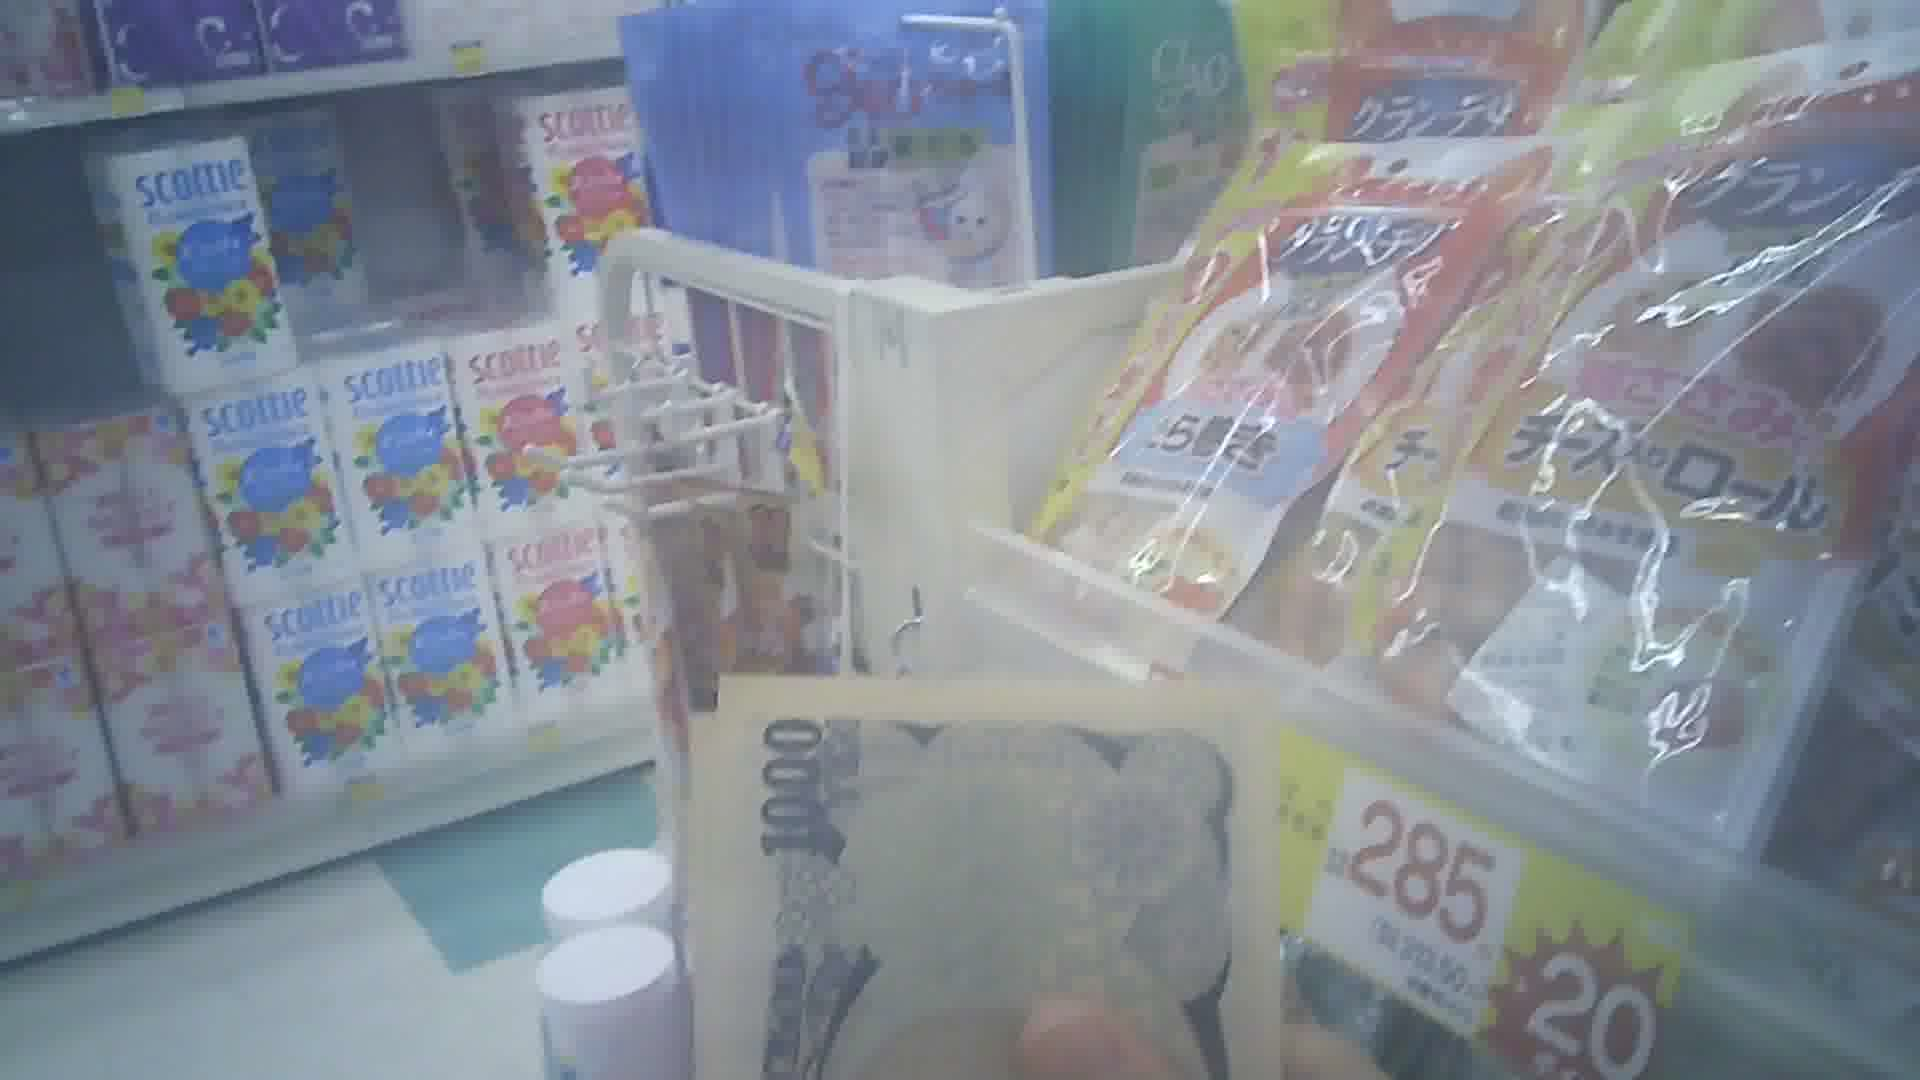1,000 Yen: (699, 673, 1273, 1079)
